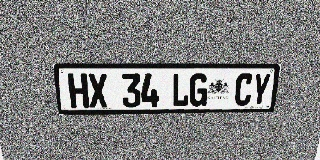3: (122, 74, 140, 107)
4: (141, 73, 159, 107)
C: (233, 73, 254, 106)
G: (189, 73, 208, 106)
H: (67, 74, 89, 108)
L: (171, 73, 190, 107)
X: (87, 74, 108, 108)
Y: (250, 73, 271, 106)
